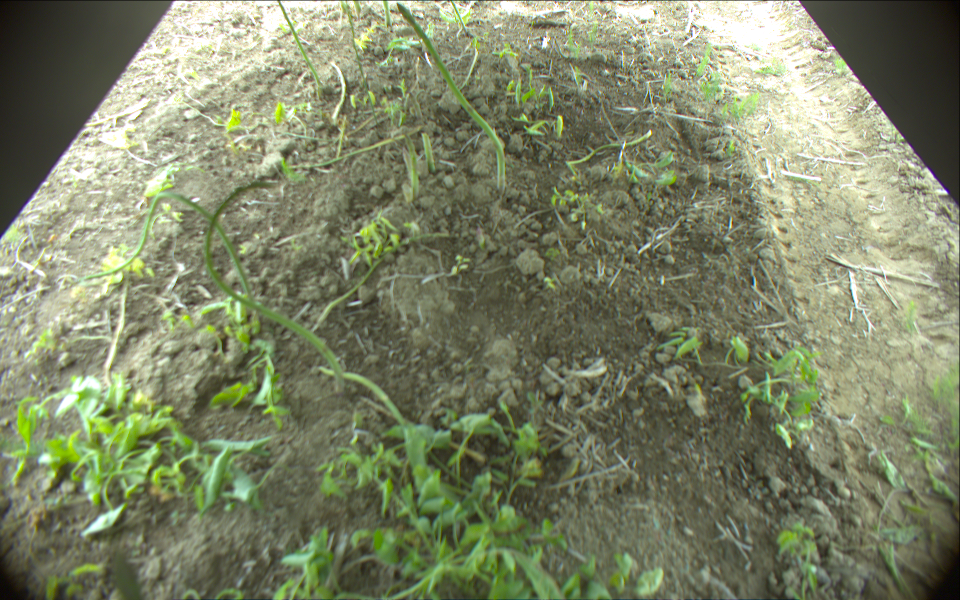aspa: (198, 180, 344, 391), (67, 190, 254, 307), (396, 1, 508, 185), (317, 366, 413, 431), (275, 1, 322, 95), (565, 129, 650, 167), (403, 129, 420, 197), (449, 1, 472, 37), (420, 131, 438, 175), (382, 1, 392, 27), (352, 1, 362, 13), (341, 1, 350, 11)
